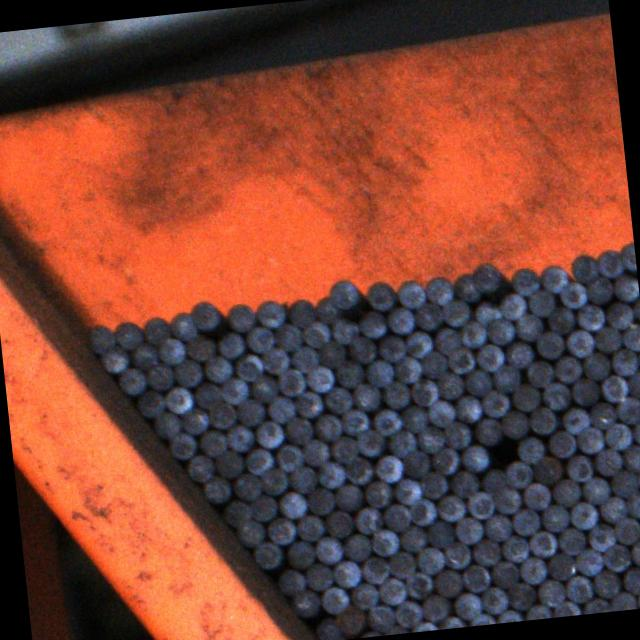tool: (364, 278, 396, 312), (469, 260, 501, 294), (536, 262, 569, 294), (450, 270, 481, 304), (83, 322, 115, 354), (112, 319, 144, 351), (188, 299, 220, 331), (225, 300, 257, 332), (508, 266, 540, 298), (334, 604, 366, 636), (394, 277, 425, 310), (285, 297, 316, 329), (327, 278, 358, 310), (422, 274, 453, 306), (142, 314, 172, 346), (568, 252, 598, 284), (232, 352, 264, 382), (252, 418, 284, 448), (283, 414, 313, 446), (372, 454, 404, 484), (460, 562, 490, 594), (169, 310, 198, 343), (439, 298, 470, 328), (172, 357, 202, 388), (202, 354, 233, 384), (402, 328, 432, 359), (275, 366, 305, 397), (462, 367, 492, 398), (498, 408, 528, 439), (526, 528, 557, 558), (595, 247, 624, 279), (230, 471, 262, 500), (541, 502, 570, 534), (255, 298, 285, 328), (128, 341, 158, 371), (156, 336, 186, 366), (412, 300, 442, 330), (610, 272, 640, 302), (316, 340, 346, 370), (574, 302, 604, 332), (192, 380, 222, 410), (304, 363, 334, 393), (334, 358, 364, 388), (364, 358, 394, 388), (392, 354, 422, 384), (474, 342, 504, 372), (504, 340, 534, 370), (534, 329, 564, 359), (206, 400, 236, 430), (184, 452, 214, 482), (234, 518, 264, 548), (234, 397, 264, 427), (322, 384, 352, 414), (350, 381, 380, 411), (434, 370, 464, 400), (490, 362, 520, 392), (552, 354, 582, 384), (328, 434, 358, 464), (480, 388, 510, 418), (354, 426, 384, 456), (510, 382, 540, 412), (540, 380, 570, 410), (440, 420, 470, 450), (414, 424, 444, 454), (598, 372, 628, 402), (430, 445, 460, 475), (459, 442, 489, 472), (546, 430, 576, 460), (602, 420, 632, 450), (333, 482, 363, 512), (532, 455, 562, 485), (352, 505, 382, 535), (426, 519, 456, 549), (568, 500, 598, 530), (608, 468, 638, 498), (556, 526, 586, 556), (376, 576, 406, 606), (490, 560, 520, 590), (452, 590, 482, 620), (212, 449, 243, 478), (314, 294, 342, 326), (250, 541, 282, 569), (99, 344, 128, 374), (244, 325, 274, 354), (272, 322, 301, 352), (117, 366, 146, 396), (144, 362, 173, 392), (288, 345, 318, 374), (347, 335, 376, 365), (376, 334, 406, 363), (484, 316, 514, 345), (604, 300, 633, 330), (565, 328, 594, 358), (167, 430, 196, 460), (222, 499, 252, 528), (266, 394, 295, 424), (380, 379, 410, 408), (224, 423, 254, 452), (273, 443, 303, 472), (313, 412, 342, 442), (426, 398, 456, 427), (388, 428, 417, 458), (570, 377, 600, 406), (526, 405, 556, 434), (587, 399, 617, 428), (288, 464, 317, 494), (344, 456, 373, 486), (402, 448, 431, 478), (515, 434, 544, 464), (290, 588, 320, 617), (277, 490, 306, 520), (267, 516, 296, 546), (449, 470, 479, 499), (436, 493, 466, 522), (332, 558, 361, 588), (361, 554, 390, 584), (518, 554, 547, 584), (546, 551, 575, 581), (572, 547, 602, 576), (601, 543, 631, 572), (161, 386, 192, 414), (591, 324, 622, 352), (535, 578, 566, 606), (497, 292, 526, 321), (584, 275, 613, 304), (260, 346, 289, 375), (197, 428, 226, 457), (339, 408, 368, 437), (473, 416, 502, 445), (363, 480, 392, 509), (504, 459, 533, 488), (408, 497, 437, 526), (581, 475, 610, 504), (403, 570, 432, 599), (184, 334, 214, 362), (514, 312, 542, 342), (219, 376, 249, 404), (202, 474, 230, 504), (524, 358, 552, 388), (582, 350, 610, 380), (244, 446, 274, 474), (286, 540, 314, 570), (394, 476, 422, 506), (320, 586, 350, 614), (294, 514, 324, 542), (324, 508, 352, 538), (382, 502, 410, 532), (313, 536, 343, 564), (304, 562, 334, 590), (466, 490, 494, 520), (454, 516, 484, 544), (511, 508, 541, 536), (599, 494, 627, 524), (612, 514, 640, 544), (434, 568, 462, 598), (368, 602, 396, 632), (564, 573, 592, 603), (300, 320, 329, 348), (329, 316, 358, 344), (526, 288, 554, 317), (432, 326, 460, 355), (457, 320, 486, 348), (546, 306, 575, 334), (250, 373, 278, 402), (418, 349, 446, 378), (446, 345, 474, 374), (152, 410, 180, 439), (180, 406, 208, 435), (293, 390, 321, 419), (410, 378, 438, 407), (610, 347, 638, 376), (400, 404, 428, 433), (454, 393, 482, 422), (561, 406, 590, 434), (564, 454, 592, 483), (370, 528, 399, 556), (522, 481, 550, 510), (552, 478, 580, 507), (484, 513, 512, 542), (442, 541, 471, 569), (500, 534, 529, 562), (588, 523, 616, 552), (419, 593, 448, 621), (506, 581, 534, 610), (418, 471, 448, 498), (357, 310, 385, 338), (386, 306, 414, 334), (558, 280, 586, 308), (136, 389, 164, 417), (259, 467, 287, 495), (576, 426, 604, 454), (248, 496, 276, 524), (594, 447, 622, 475), (398, 524, 426, 552), (387, 550, 415, 578), (350, 582, 378, 610), (416, 546, 444, 574), (480, 586, 508, 614), (216, 331, 243, 359), (316, 461, 344, 488), (344, 534, 371, 562), (472, 538, 499, 566), (394, 600, 422, 627), (372, 408, 401, 434), (614, 395, 640, 424), (493, 487, 520, 514), (302, 438, 328, 466), (308, 487, 334, 515), (278, 568, 305, 594), (593, 572, 619, 598), (315, 616, 343, 640), (482, 468, 507, 494), (474, 302, 501, 326), (609, 590, 636, 612), (620, 323, 640, 352), (618, 241, 636, 272), (622, 444, 640, 472), (552, 600, 580, 618), (582, 596, 610, 614), (622, 567, 640, 594), (524, 602, 550, 620), (624, 488, 640, 517), (494, 608, 522, 624), (438, 614, 464, 630), (626, 369, 640, 398), (468, 611, 495, 626), (628, 537, 640, 568), (633, 417, 640, 445), (635, 464, 640, 491)
void: (482, 434, 518, 469)
